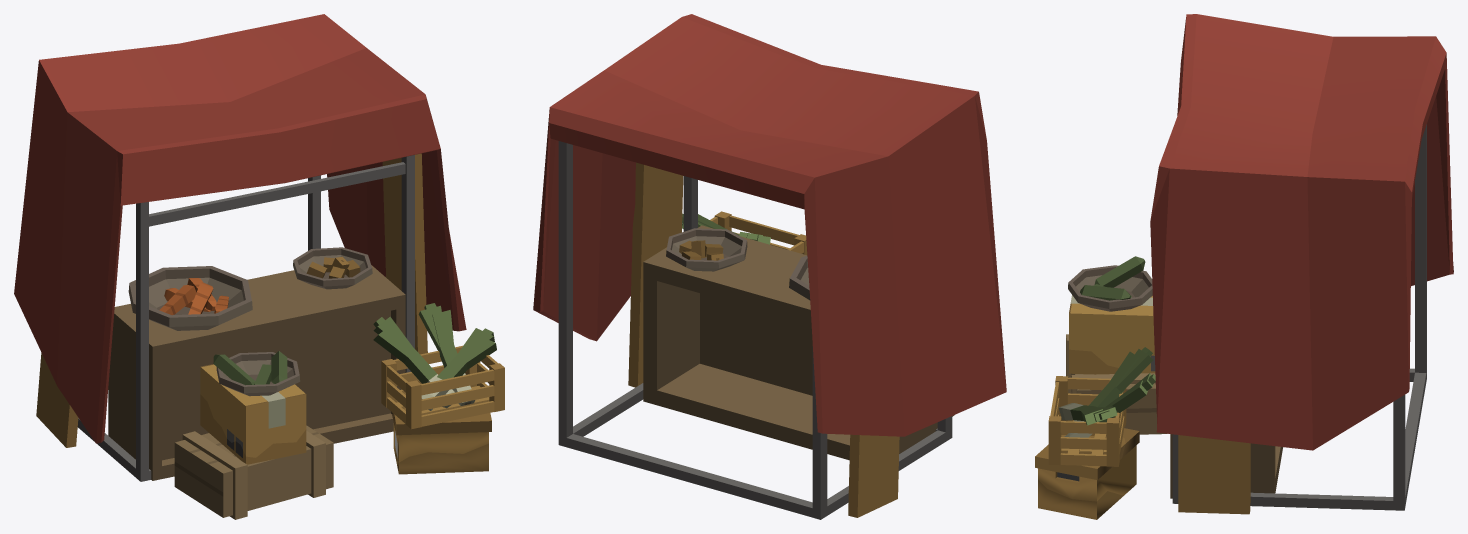
The model's file is AI_Prop_Shop_Food_02.fbx.
3 renders of one model, left to right at view 1: azimuth 30°, elevation 25°; view 2: azimuth 150°, elevation 25°; view 3: azimuth 270°, elevation 25°, orthographic. The views are drawn at different scales.
Parts seen in each view (by area): view 1: AI_Prop_Shop_Food_02; view 2: AI_Prop_Shop_Food_02; view 3: AI_Prop_Shop_Food_02.
Boxes of the visible parts, box(x1,y1,x2,y2) form: AI_Prop_Shop_Food_02: box(14, 14, 504, 519); AI_Prop_Shop_Food_02: box(533, 14, 1006, 519); AI_Prop_Shop_Food_02: box(1035, 14, 1453, 519).
Size of the model in its own units: 4.08 by 3.78 by 4.02.
